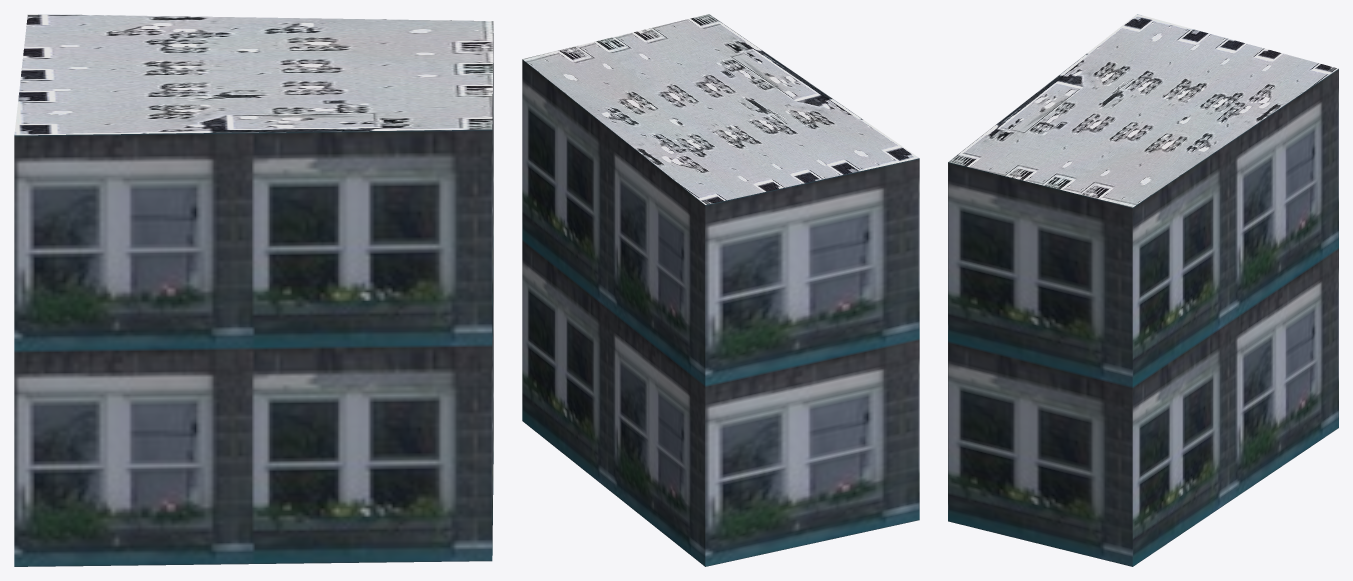
The model's file is ResTex__3611.fbx.
3 views of the same model, side by side, from view 1: azimuth 30°, elevation 25°; view 2: azimuth 150°, elevation 25°; view 3: azimuth 270°, elevation 25° (orthographic). The views are drawn at different scales.
Parts seen in each view (by area): view 1: CityEngineMaterial_11_m, CityEngineMaterial_8_m; view 2: CityEngineMaterial_11_m, CityEngineMaterial_8_m; view 3: CityEngineMaterial_11_m, CityEngineMaterial_8_m.
Boxes of the visible parts, x1,y1,x2,y2 form: CityEngineMaterial_11_m: (14, 33, 493, 566); CityEngineMaterial_8_m: (14, 14, 493, 135); CityEngineMaterial_11_m: (522, 59, 919, 566); CityEngineMaterial_8_m: (522, 14, 918, 204); CityEngineMaterial_11_m: (948, 69, 1338, 566); CityEngineMaterial_8_m: (948, 14, 1338, 207).
Size of the model in its own units: 6.93 by 6 by 5.91.
2 materials, 2 textured.
